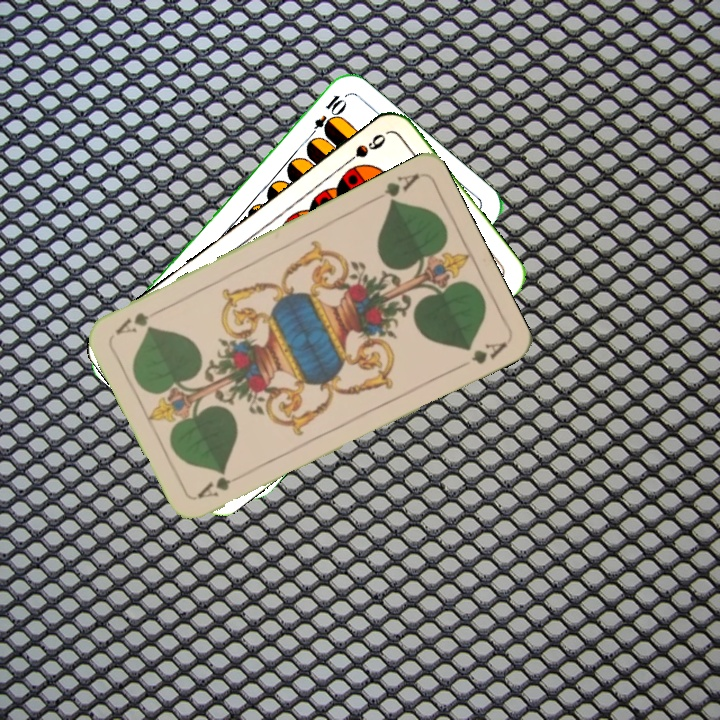E10: (303, 90, 346, 143)
GA: (367, 169, 422, 208), (193, 471, 249, 501)
S9: (338, 129, 389, 169)
